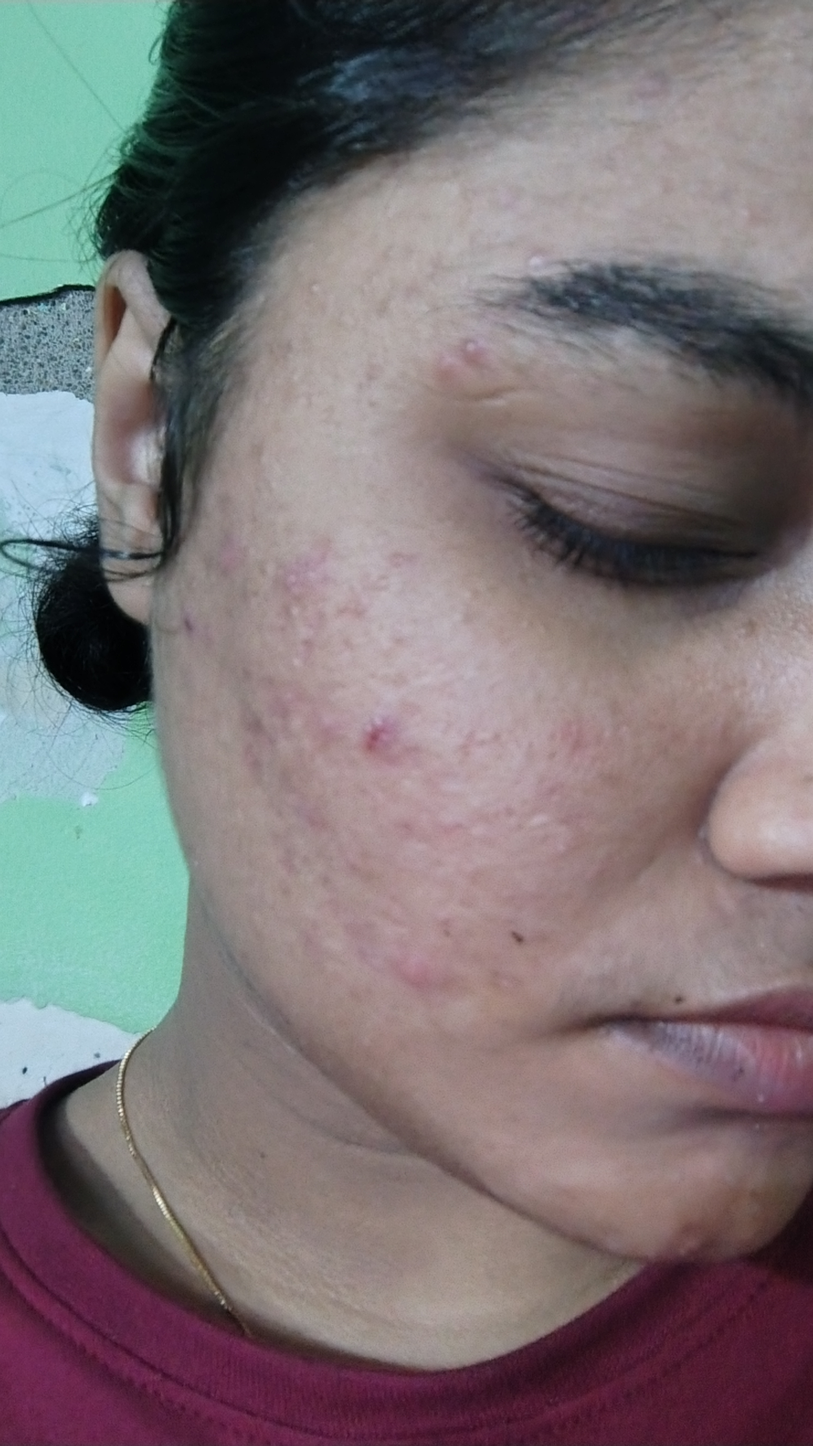closed_comedone: (296, 268, 331, 312)
macrocomedone: (448, 579, 489, 633)
papule: (391, 945, 455, 1009), (677, 1216, 727, 1274)
